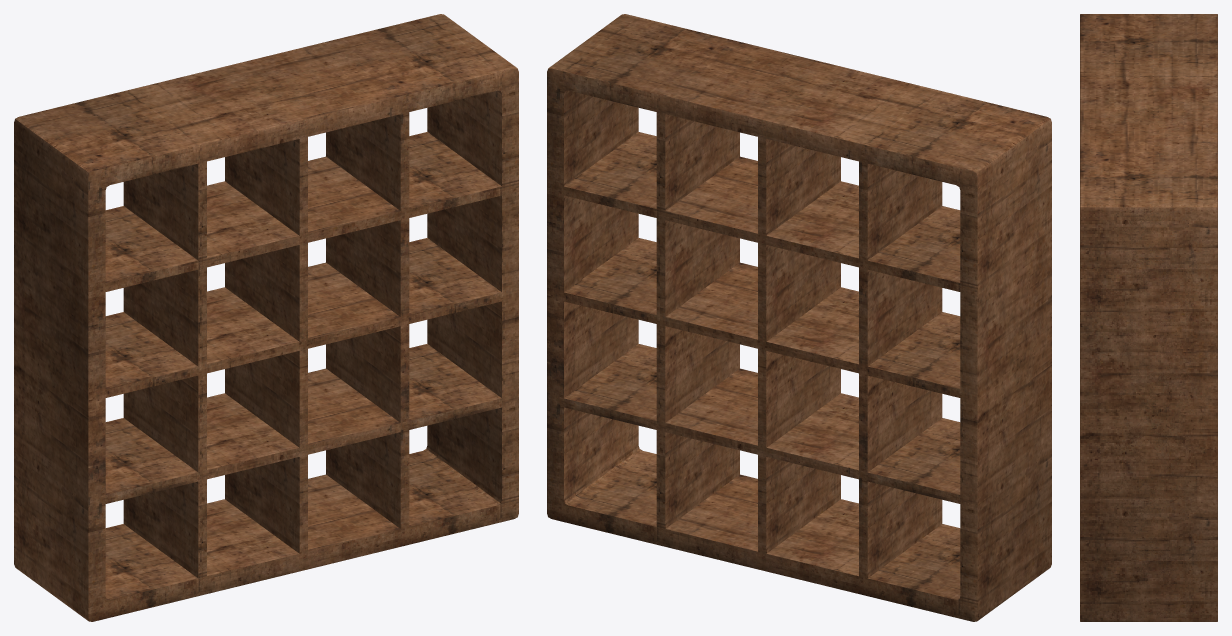
Rendered from _Bookshelf_1.FBX.
3 views of the same model, side by side, from view 1: azimuth 30°, elevation 25°; view 2: azimuth 150°, elevation 25°; view 3: azimuth 270°, elevation 25° (orthographic). The views are drawn at different scales.
Visible parts, largest first — view 1: _Bookshelf_1; view 2: _Bookshelf_1; view 3: _Bookshelf_1.
Boxes of the visible parts, box(x1,y1,x2,y2) form: _Bookshelf_1: box(14, 14, 518, 621); _Bookshelf_1: box(547, 14, 1051, 621); _Bookshelf_1: box(1080, 14, 1217, 621).
Size of the model in its own units: 500 by 500 by 150.
Materials: 1 (1 with a texture image).
